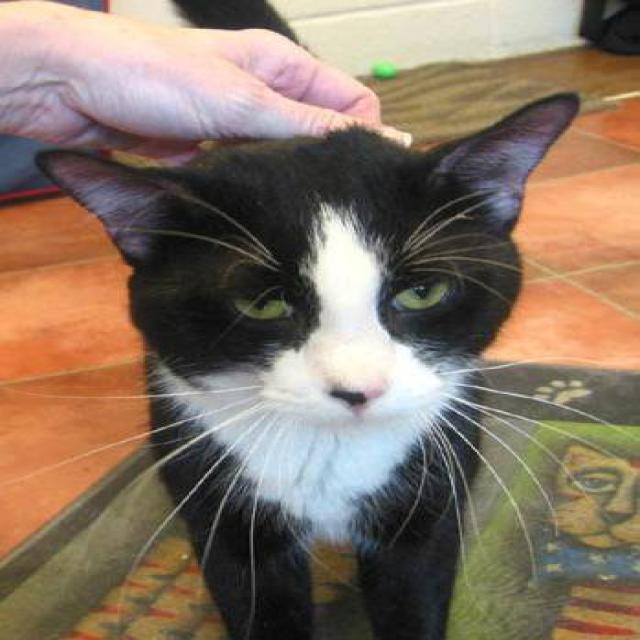cat: (17, 89, 614, 638)
